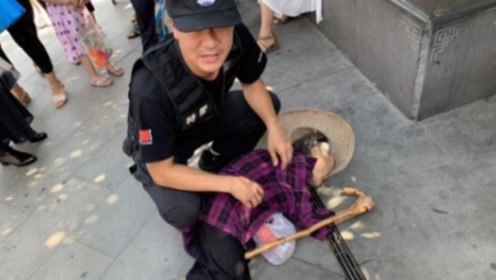fall: (200, 116, 350, 279)
